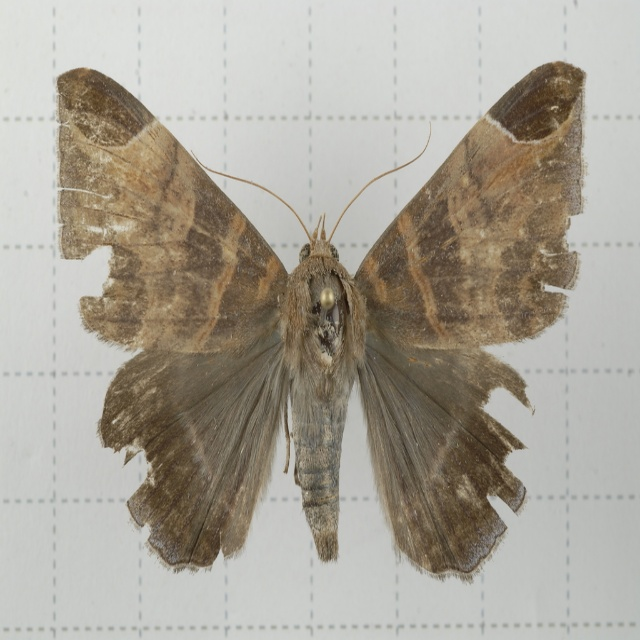Butterfly: (47, 64, 592, 592)
